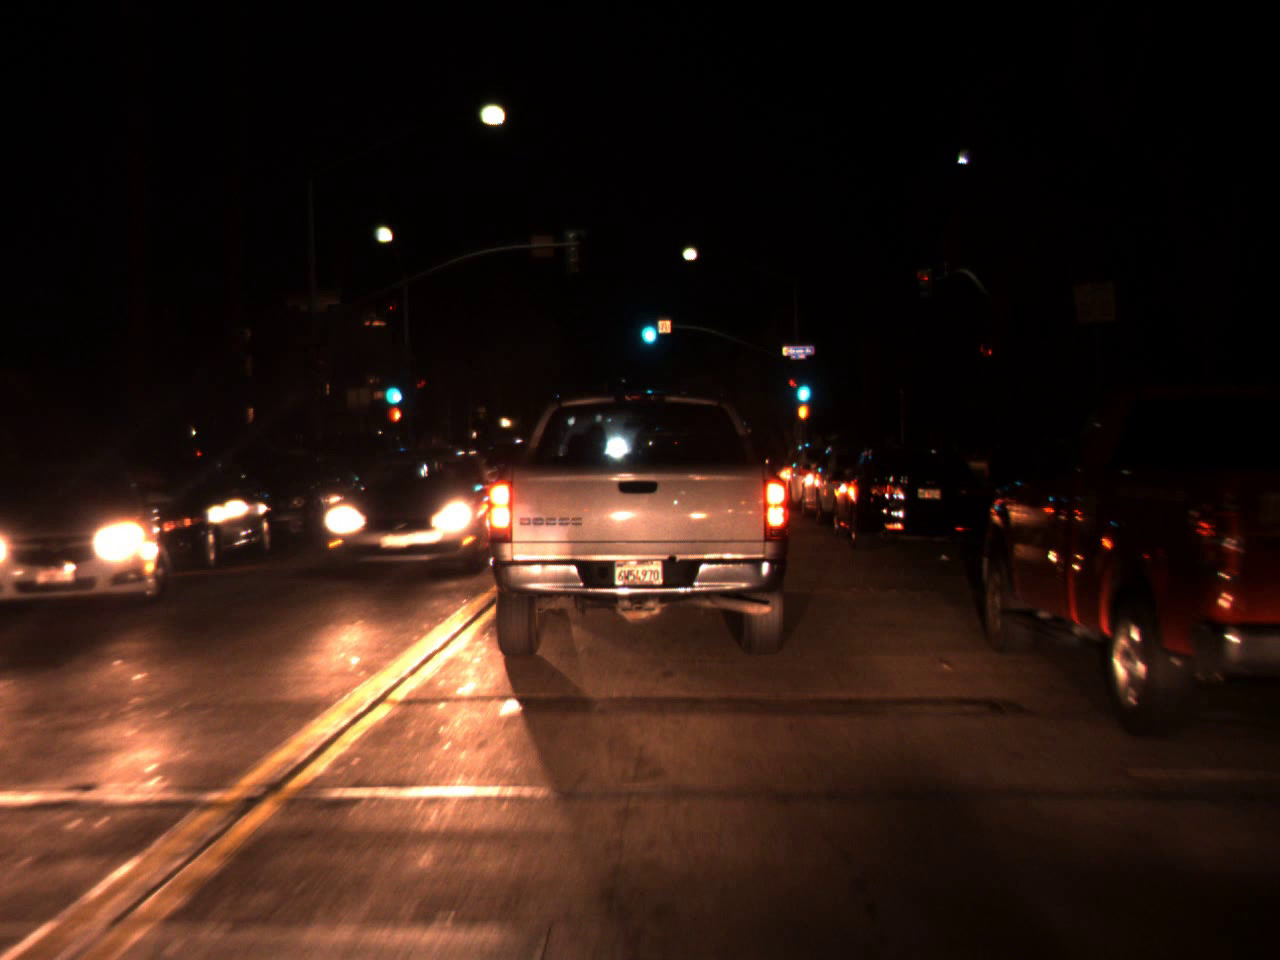go: (635, 304, 660, 349), (792, 367, 813, 406), (381, 368, 400, 410)
